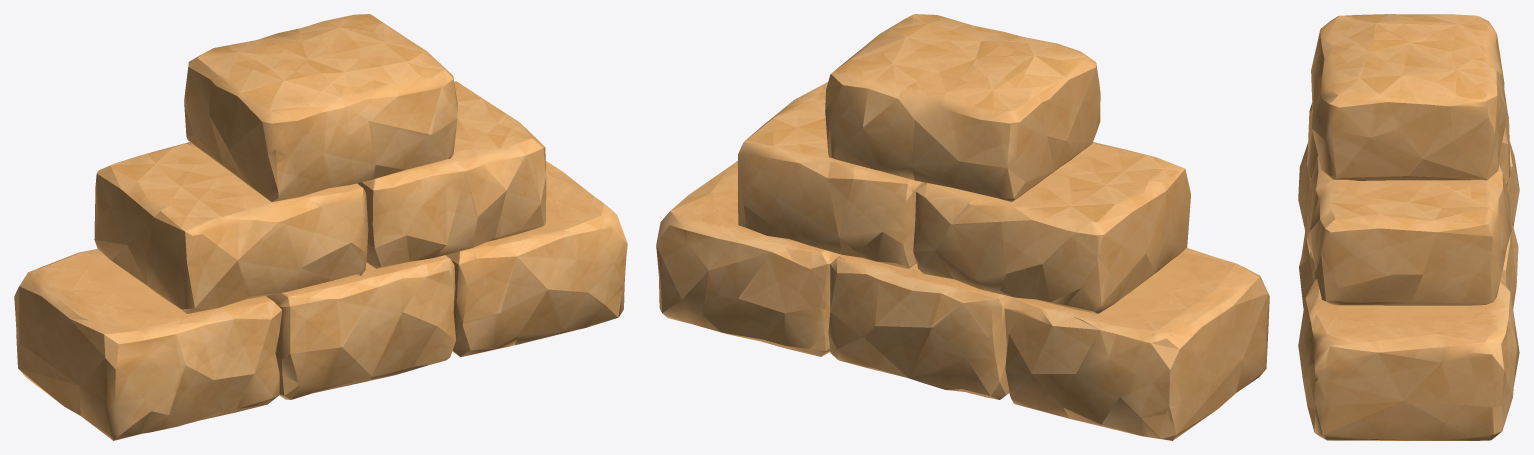
The model's file is cut-stones.glb.
The picture shows the model from 3 angles, left to right: view 1: azimuth 30°, elevation 25°; view 2: azimuth 150°, elevation 25°; view 3: azimuth 270°, elevation 25°; orthographic projection. The views are drawn at different scales.
Size of the model in its own units: 1.9 by 1.03 by 0.7403.
Materials: 1 (1 with a texture image).
